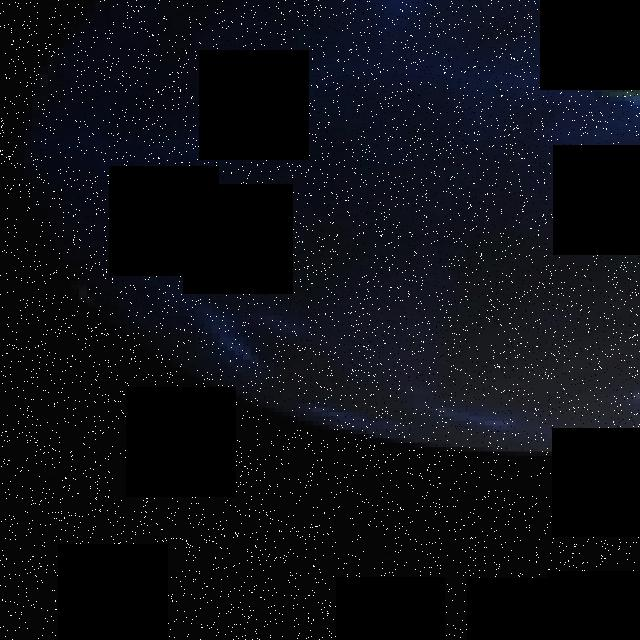Earth: (23, 0, 640, 456)
